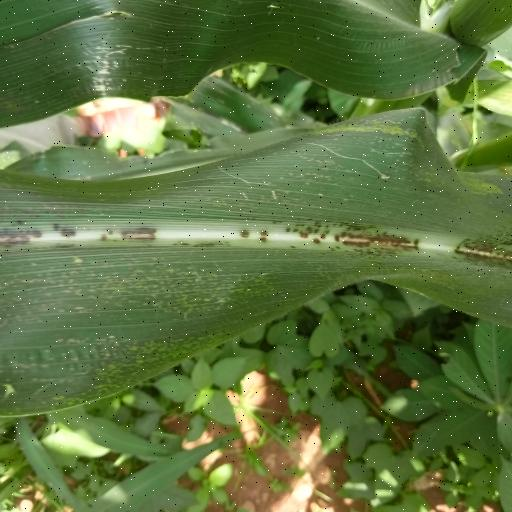Corn_Brown_Spots: (0, 116, 512, 444)
